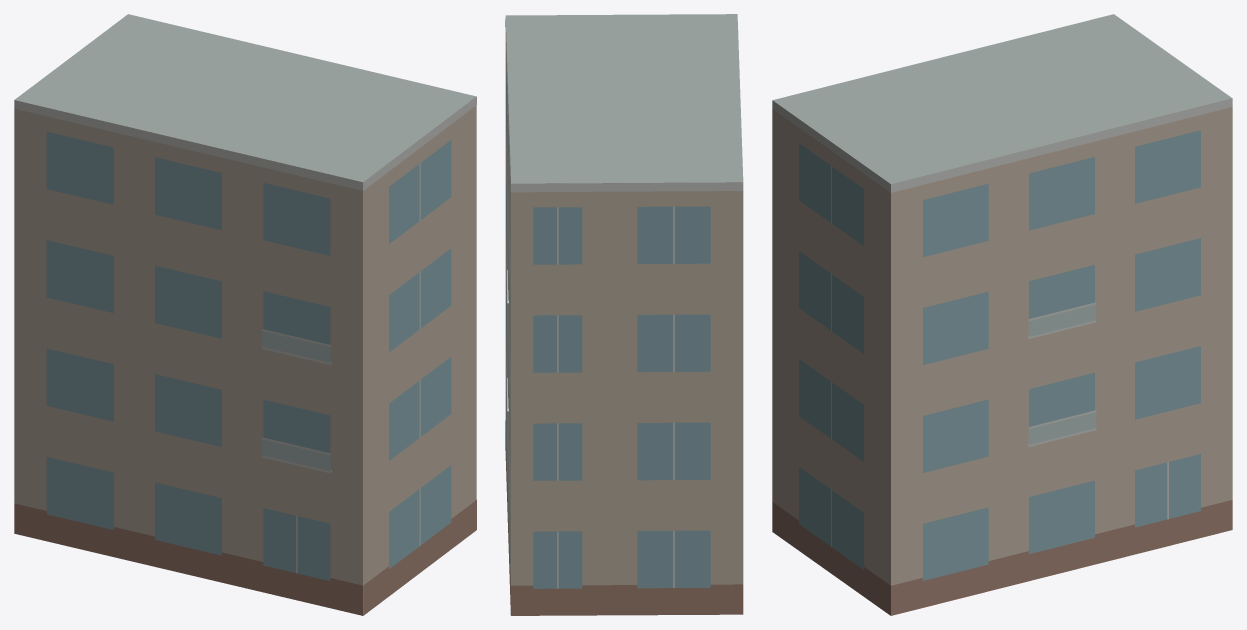
File: residential-256b4111-05f9-42e7-87db-508f58b11fd7.glb
3 renders of one model, left to right at view 1: azimuth 30°, elevation 25°; view 2: azimuth 150°, elevation 25°; view 3: azimuth 270°, elevation 25°, orthographic.
Parts seen in each view (by area): view 1: residential-256b4111-05f9-42e7-87db-508f58b11fd7.tmp; view 2: residential-256b4111-05f9-42e7-87db-508f58b11fd7.tmp; view 3: residential-256b4111-05f9-42e7-87db-508f58b11fd7.tmp.
Part boxes in pixels (x1,y1,x2,y2): residential-256b4111-05f9-42e7-87db-508f58b11fd7.tmp: (14, 14, 476, 615); residential-256b4111-05f9-42e7-87db-508f58b11fd7.tmp: (505, 14, 743, 615); residential-256b4111-05f9-42e7-87db-508f58b11fd7.tmp: (772, 14, 1232, 615).
Size of the model in its own units: 10.33 by 12.2 by 11.8.
